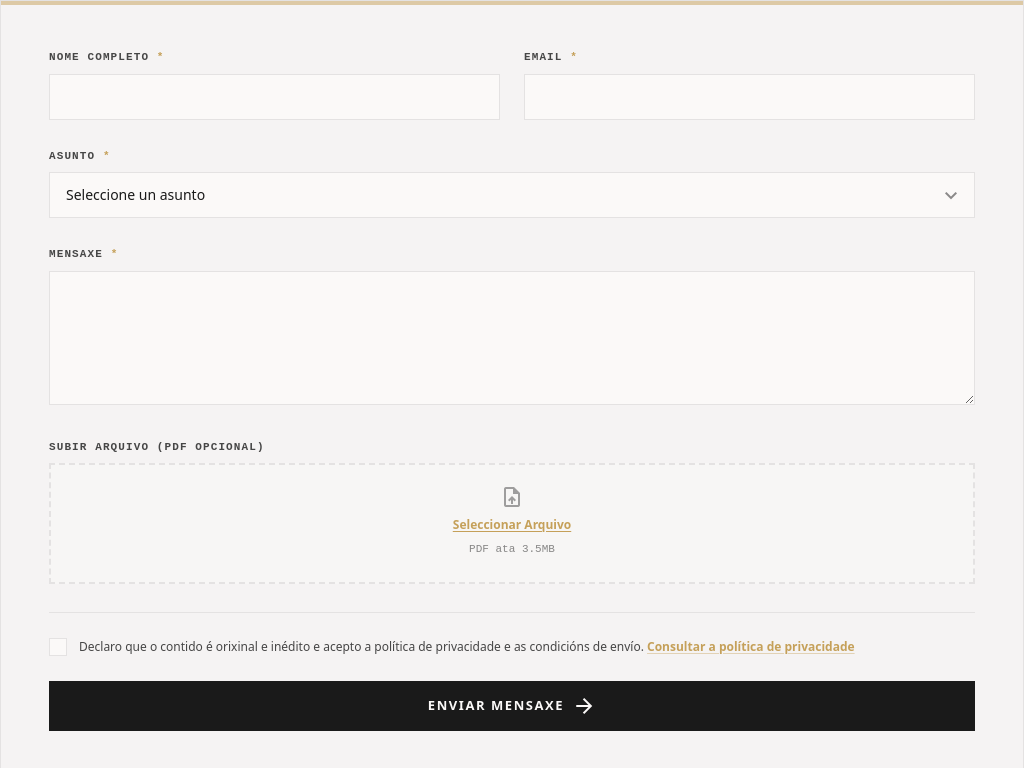
Test case: ContactForm component › displays client-side validation errors when submitting empty form
Click the button "Enviar Mensaxe". click: (512, 706)
box: [49,680,975,730]
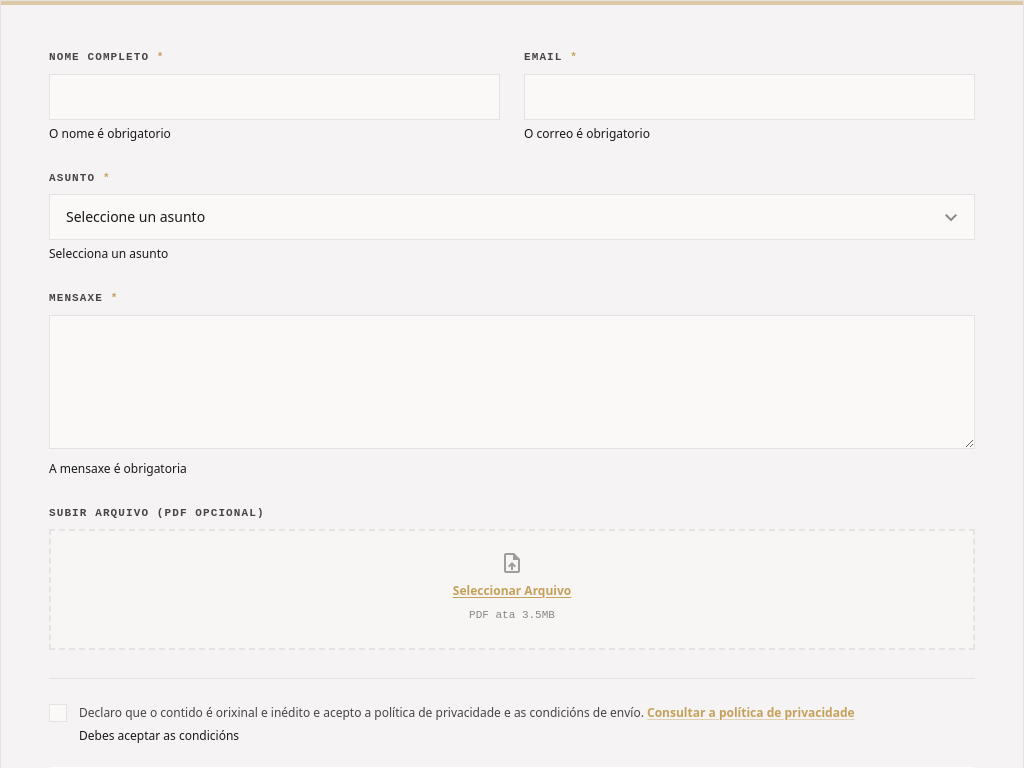
expect the text "O nome é obrigatorio" is shown: met, box [49,124,171,142]
expect the text "O correo é obrigatorio" is shown: met, box [524,124,650,142]
expect the text "Selecciona un asunto" is shown: met, box [49,245,168,262]
